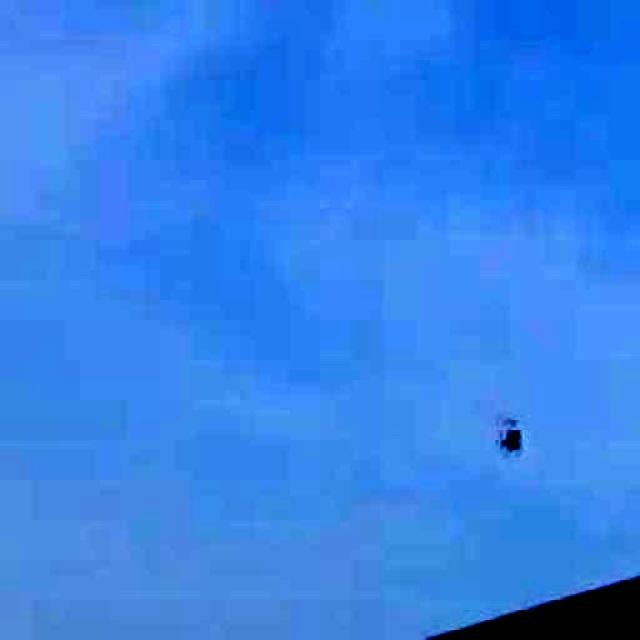drone: (482, 392, 545, 475)
